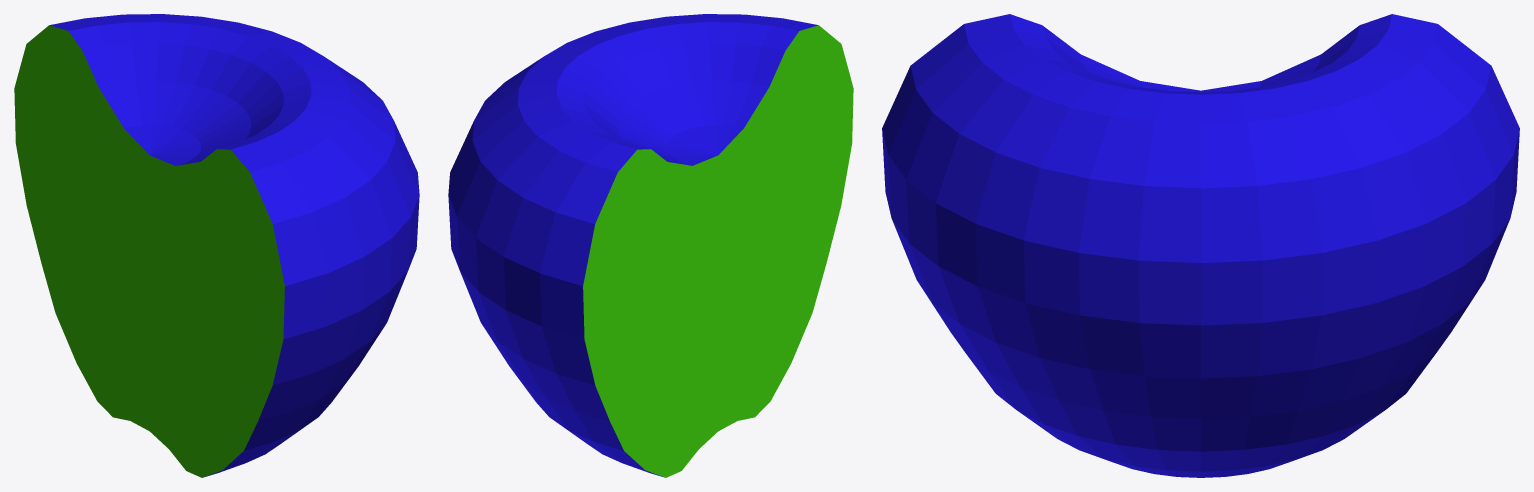
The model's file is NewAppleTryning.fbx.
3 views of the same model, side by side, from view 1: azimuth 30°, elevation 25°; view 2: azimuth 150°, elevation 25°; view 3: azimuth 270°, elevation 25° (orthographic). The views are drawn at different scales.
Visible parts, largest first — view 1: Sphere; view 2: Sphere; view 3: Sphere.
Boxes of the visible parts, x1,y1,x2,y2 form: Sphere: [14, 14, 419, 477]; Sphere: [448, 14, 853, 477]; Sphere: [882, 14, 1519, 477].
Size of the model in its own units: 94.35 by 136 by 189.
